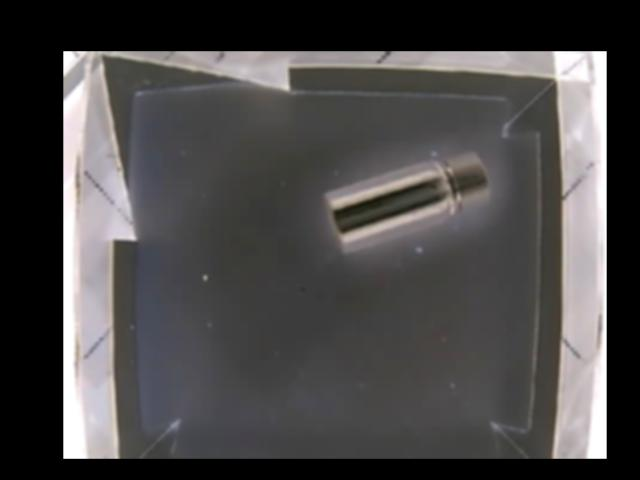Bottle: (325, 149, 490, 255)
